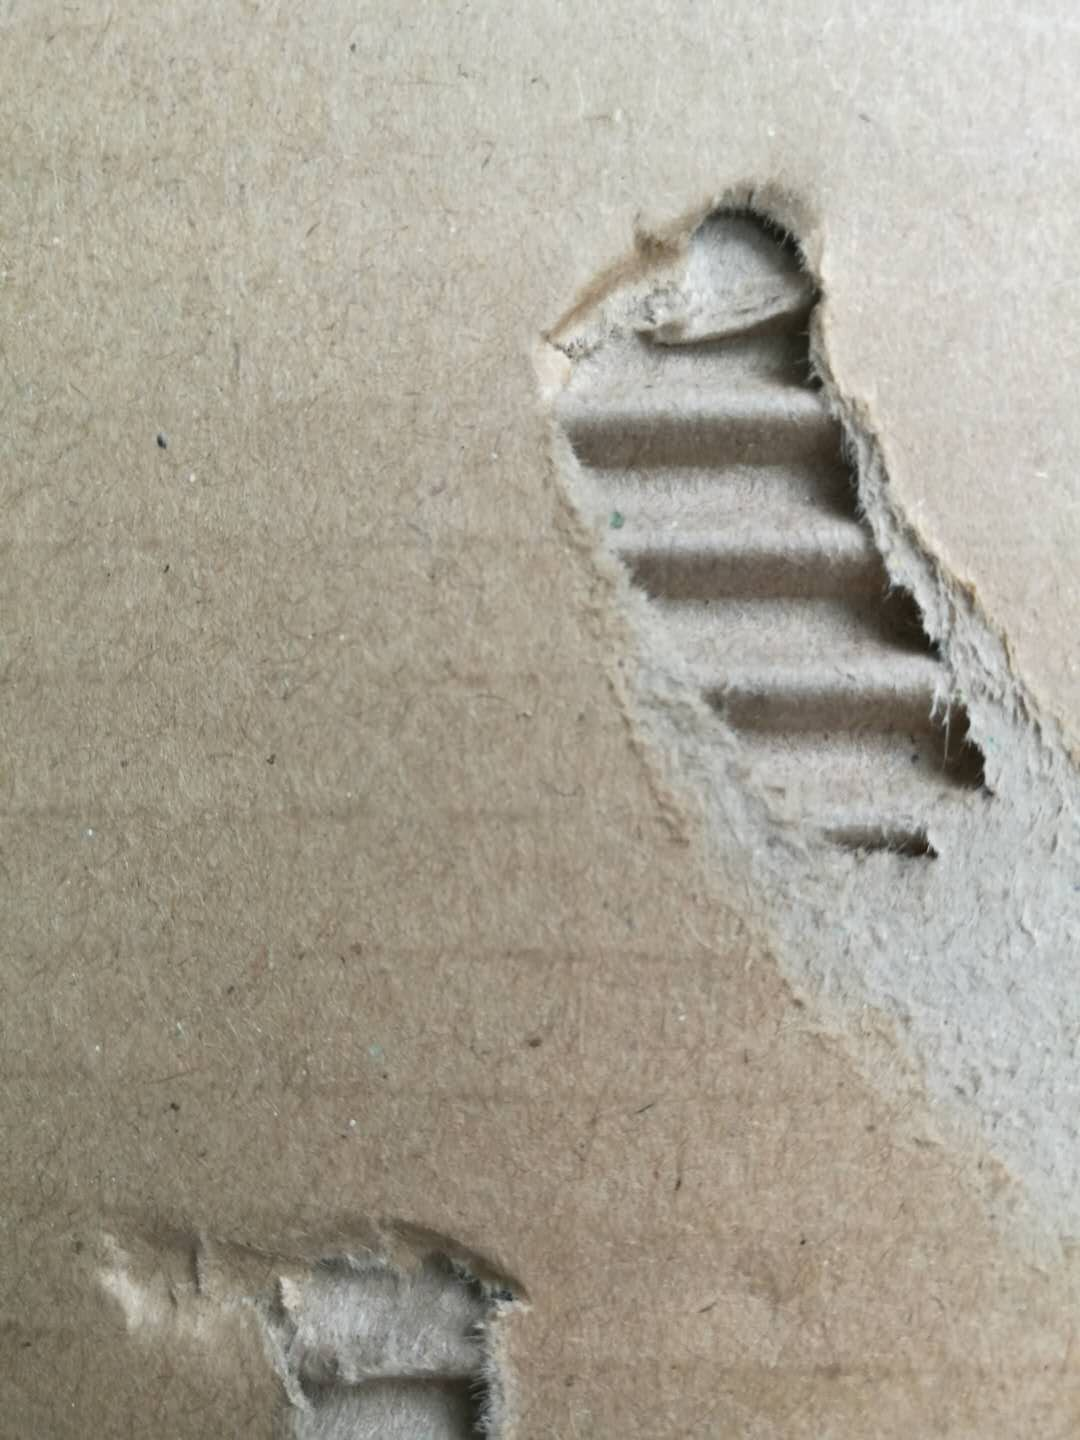defect: (488, 145, 1080, 1333), (45, 1181, 563, 1440)
